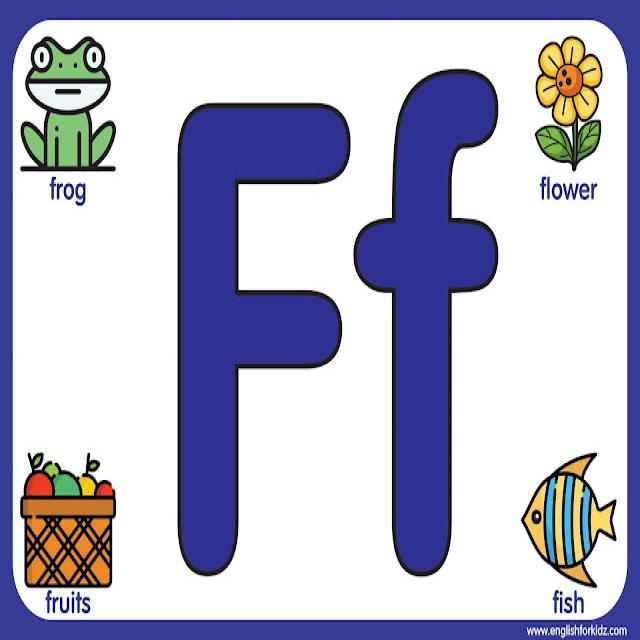F: (132, 56, 355, 578)
